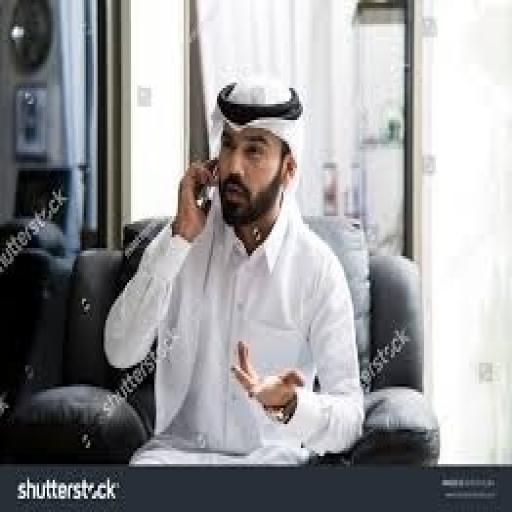calling: (102, 72, 368, 467)
